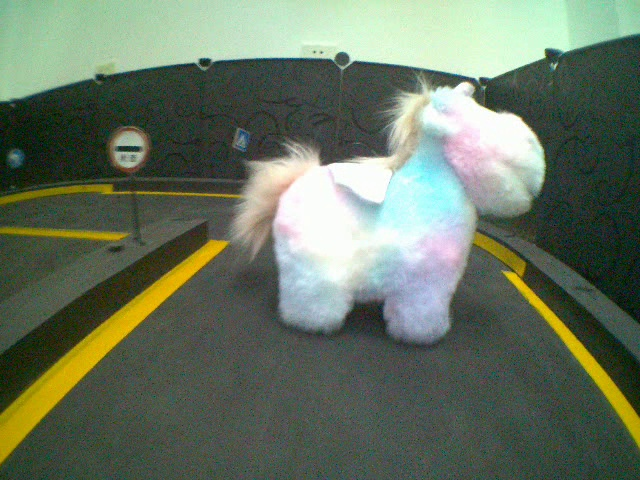unicorn: (208, 68, 545, 353)
